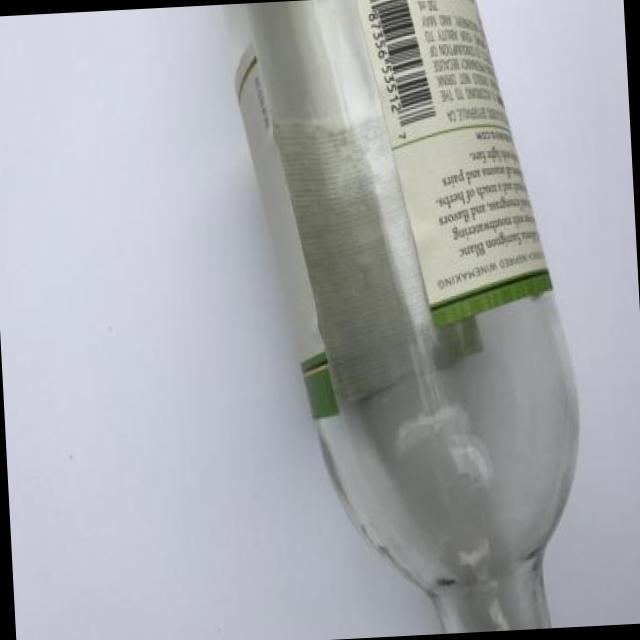chai_thuy_tinh: (225, 0, 579, 634)
